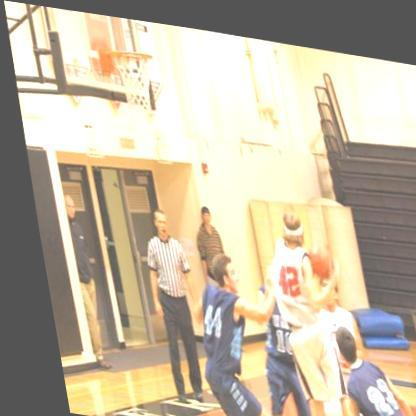basketball: (298, 231, 325, 268)
rim: (107, 43, 155, 63)
